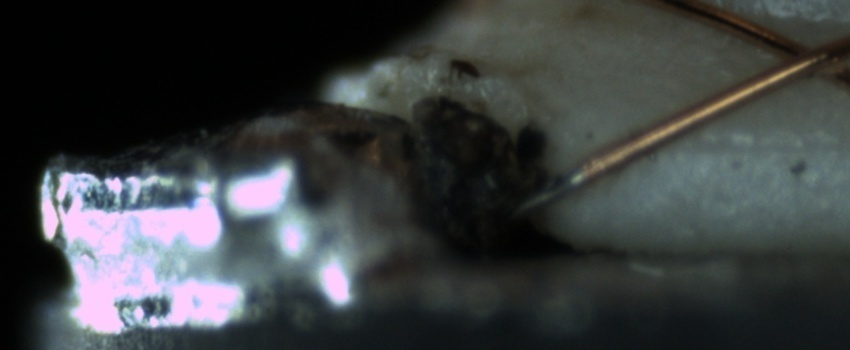CL: (753, 21, 848, 91)
DL: (671, 117, 848, 173)
TS: (489, 164, 588, 223)
